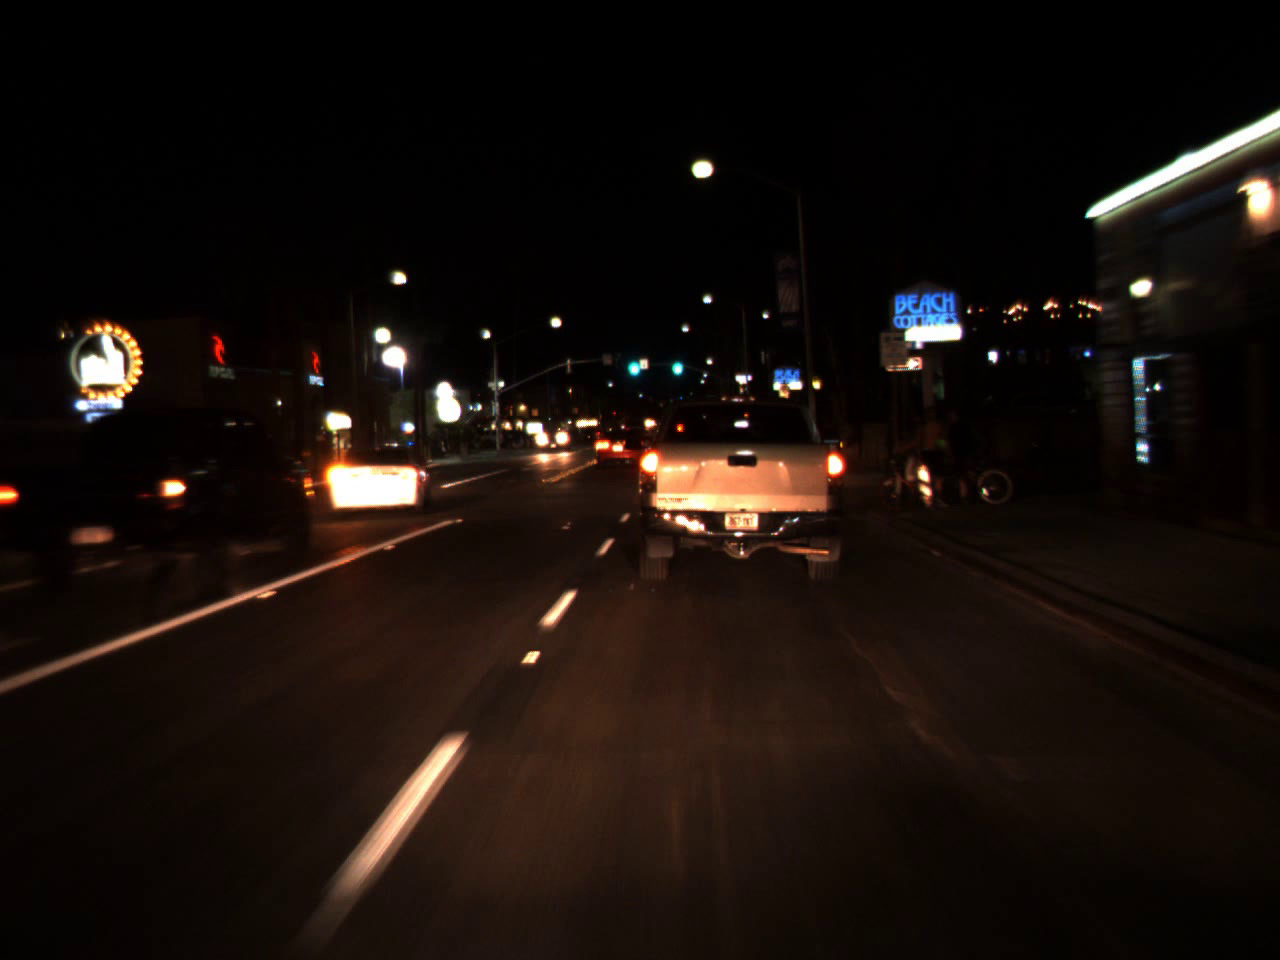go: (623, 345, 642, 381), (668, 346, 684, 379)
